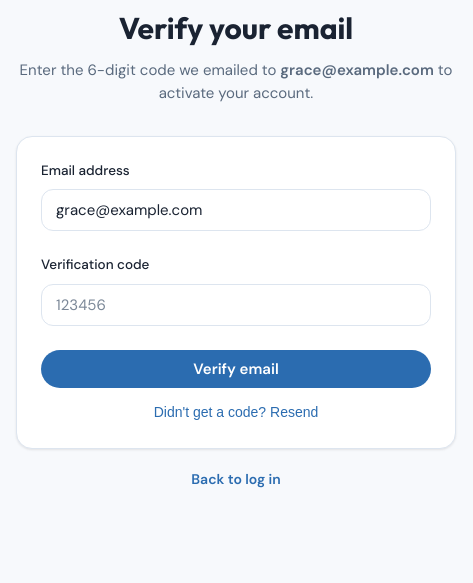
it: VerifyEmail page › shows the server error message when verification fails
Type "999999" into the field labelled "Verification code" at (236, 304), box [41, 284, 431, 326]
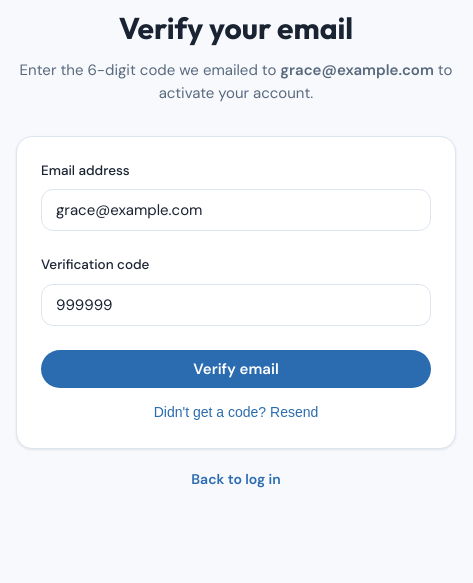
Click the button "Verify email" at (236, 368), box [41, 350, 431, 388]
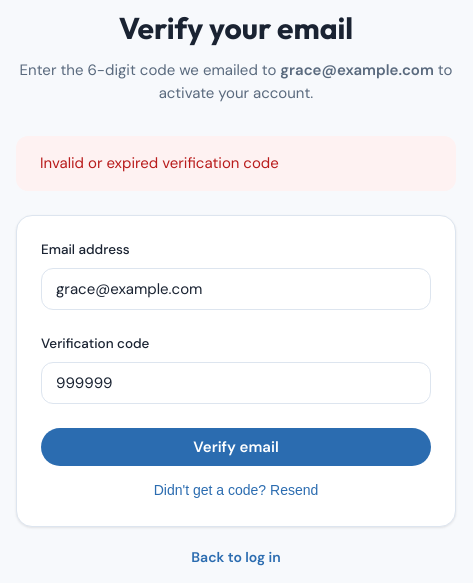
Check: the text "Invalid or expired verification code" is shown, box [16, 136, 456, 190]
